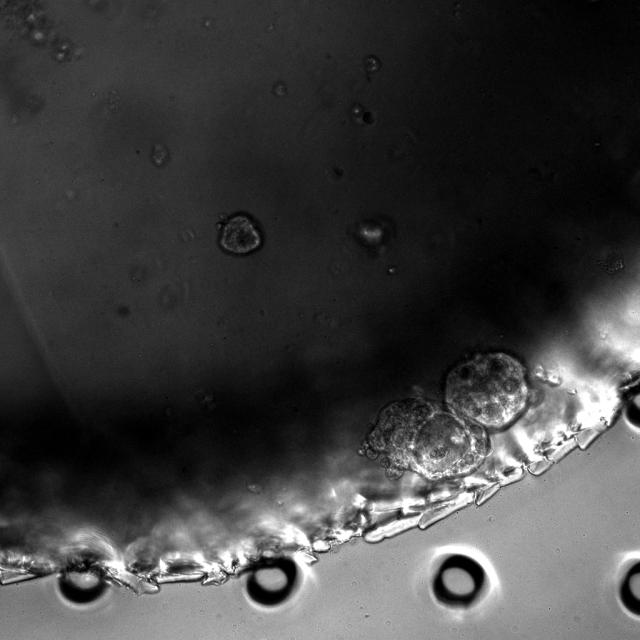organoid: (362, 352, 529, 480), (218, 212, 264, 256), (362, 111, 374, 124)
